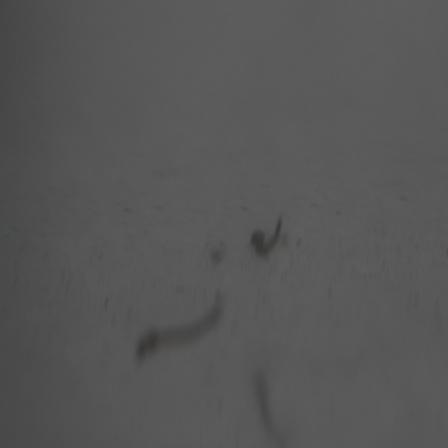Jentik-Nyamuk: (246, 210, 288, 262)
